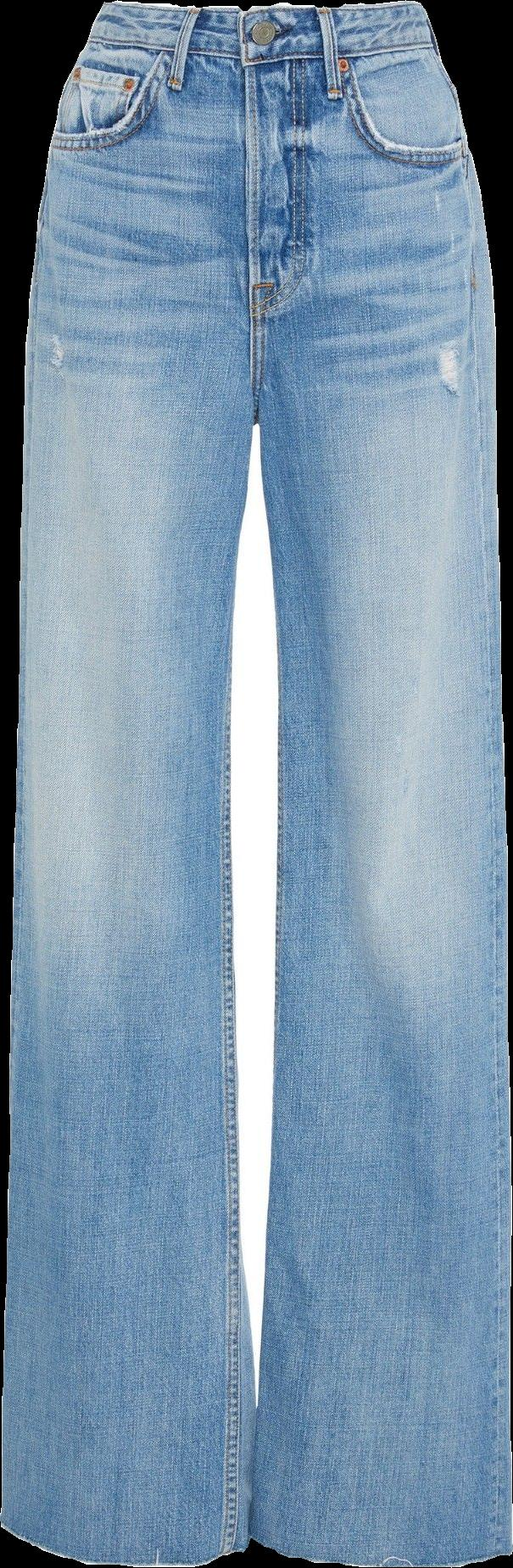Hemline: (0, 1512, 262, 1567), (242, 1526, 512, 1567)
Pantleg: (236, 2, 511, 1563), (1, 2, 258, 1564)
Waistline: (77, 29, 448, 73), (95, 0, 424, 28)
